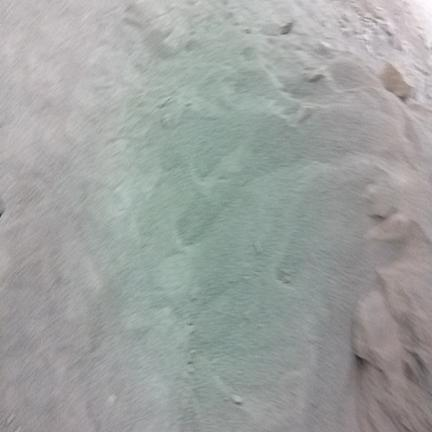Rock: (353, 292, 396, 370), (380, 63, 412, 99), (381, 23, 394, 35), (281, 22, 293, 34), (231, 395, 242, 405)
